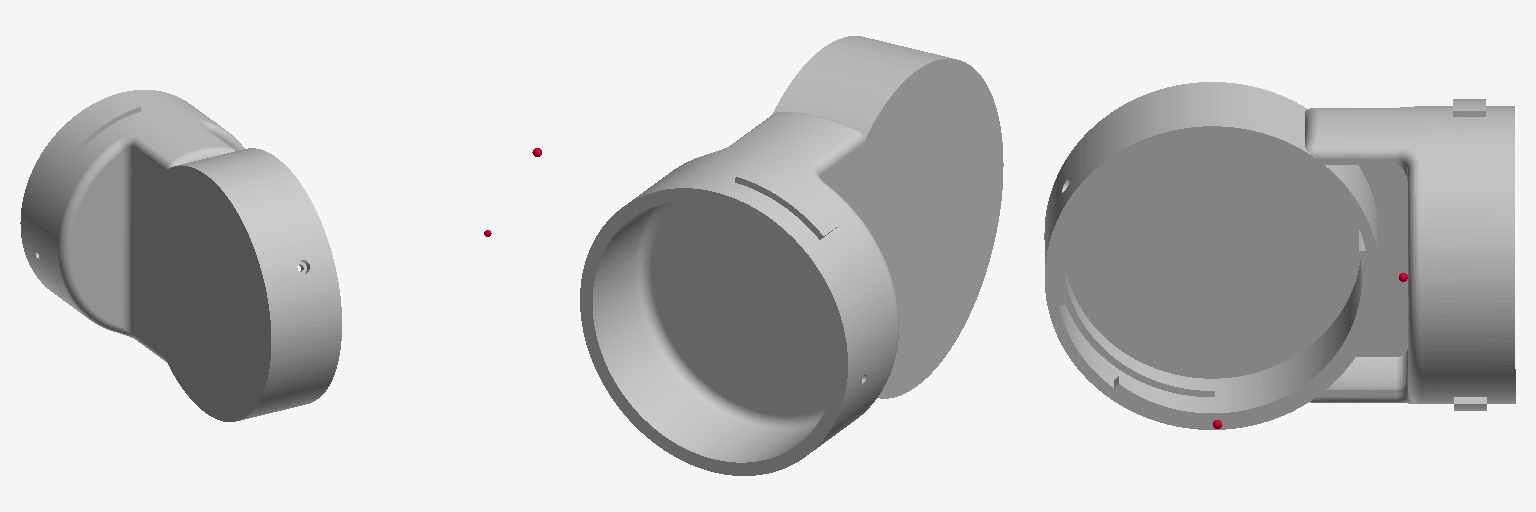
robot.urdf — universal_robot:
<?xml version="1.0"?>
<!--FOR GRIPPER, THERE IS NO LINK INERTIA DEFINED HERE-->
<robot name="universal_robot">

  <!-- Colors -->
  <material name="DarkGrey">
    <color rgba="0.2 0.2 0.2 1.0"/>
  </material>
  <material name="Grey">
    <color rgba="0.4 0.4 0.4 1.0"/>
  </material>
  <material name="Orange">
    <color rgba="1.0 0.423529411765 0.0392156862745 1.0"/>
  </material>
  <material name="Blue">
    <color rgba="0 0.1 1.0 1.0"/>
  </material>
  <material name="LightGrey">
    <color rgba="0.7 0.7 0.7 1.0"/>
  </material>
  <material name="Red">
    <color rgba="0.9 0 0.2 1.0"/>
  </material>
  <material name="TransparentRed">
    <color rgba="0.9 0 0.2 0.5"/>
  </material>
  <material name="Green">
    <color rgba="0 0.9 0.5 1.0"/>
  </material>
  <material name="Yellow">
    <color rgba="0.7 0.7 0 1.0"/>
  </material>
  <material name="LightBlue">
    <color rgba="0. 0.3 1.0 1.0"/>
  </material>
  <material name="Black">
    <color rgba="0.05 0.05 0.05 1.0"/>
  </material>
  <material name="White">
    <color rgba="1.0 1.0 1.0 1.0" />
  </material>



    <!-- connect arm to world -->
      <link name="world"/>
      <joint name="world_joint" type="fixed">
        <parent link="world"/>
        <child link="base_link"/>
        <origin rpy="0.0 0.0 -3.14" xyz="0.0 0.0 0.0"/>
      </joint>


      <link name="base_link">
        <visual>
          <geometry>
            <mesh filename="visual/base.obj"/>
          </geometry>
          <material name="LightGrey"/>
        </visual>
        <collision>
          <geometry>
            <mesh filename="collision/base.stl"/>
          </geometry>
        </collision>
        <inertial>
          <mass value="4.0"/>
          <origin rpy="0 0 0" xyz="0.0 0.0 0.0"/>
          <inertia ixx="0.00443333156" ixy="0.0" ixz="0.0" iyy="0.00443333156" iyz="0.0" izz="0.0072"/>
        </inertial>
      </link>

      <joint name="base_joint" type="revolute">
        <parent link="base_link"/>
        <child link="shoulder_link"/>
        <origin rpy="0.0 0.0 0.0" xyz="0.0 0.0 0.089159"/>
        <axis xyz="0 0 1"/>
        <limit effort="150.0" lower="-100" upper="100" velocity="3.15"/>
        <dynamics damping="0.5" friction="0.0"/>
      </joint>

      <link name="shoulder_link">
        <visual>
          <geometry>
            <mesh filename="visual/shoulder.obj"/>
          </geometry>
          <material name="DarkGrey"/>
        </visual>
        <collision>
          <geometry>
            <mesh filename="collision/shoulder.stl"/>
          </geometry>
        </collision>
        <inertial>
          <mass value="3.7"/>
          <origin rpy="0 0 0" xyz="0.0 0.0 0.0"/>
          <inertia ixx="0.010267495893" ixy="0.0" ixz="0.0" iyy="0.010267495893" iyz="0.0" izz="0.00666"/>
        </inertial>
      </link>

      <joint name="shoulder_joint" type="revolute">
        <parent link="shoulder_link"/>
        <child link="upper_arm_link"/>
        <origin rpy="0.0 1.57079632679 0.0" xyz="0.0 0.13585 0.0"/>
        <axis xyz="0 1 0"/>
        <limit effort="150.0" lower="-100" upper="100" velocity="3.15"/>
        <dynamics damping="0.5" friction="0.0"/>
      </joint>

      <link name="upper_arm_link">
        <visual>
          <geometry>
            <mesh filename="visual/upperarm.obj"/>
          </geometry>
          <material name="LightGrey"/>
        </visual>
        <collision>
          <geometry>
            <mesh filename="collision/upperarm.stl"/>
          </geometry>
        </collision>
        <inertial>
          <mass value="8.393"/>
          <origin rpy="0 0 0" xyz="0.0 0.0 0.28"/>
          <inertia ixx="0.22689067591" ixy="0.0" ixz="0.0" iyy="0.22689067591" iyz="0.0" izz="0.0151074"/>
        </inertial>
      </link>

      <joint name="elbow_joint" type="revolute">
        <parent link="upper_arm_link"/>
        <child link="forearm_link"/>
        <origin rpy="0.0 0.0 0.0" xyz="0.0 -0.1197 0.425"/>
        <axis xyz="0 1 0"/>
        <limit effort="150.0" lower="-100" upper="100" velocity="3.15"/>
        <dynamics damping="0.5" friction="0.0"/>
      </joint>

      <link name="forearm_link">
        <visual>
          <geometry>
            <mesh filename="visual/forearm.obj"/>
          </geometry>
          <material name="DarkGrey"/>
        </visual>
        <collision>
          <geometry>
            <mesh filename="collision/forearm.stl"/>
          </geometry>
        </collision>
        <inertial>
          <mass value="2.275"/>
          <origin rpy="0 0 0" xyz="0.0 0.0 0.25"/>
          <inertia ixx="0.049443313556" ixy="0.0" ixz="0.0" iyy="0.049443313556" iyz="0.0" izz="0.004095"/>
        </inertial>
      </link>

      <joint name="wrist_1_joint" type="revolute">
        <parent link="forearm_link"/>
        <child link="wrist_1_link"/>
        <origin rpy="0.0 1.57079632679 0.0" xyz="0.0 0.0 0.39225"/>
        <axis xyz="0 1 0"/>
        <limit effort="28.0" lower="-100" upper="100" velocity="3.2"/>
        <dynamics damping="0.5" friction="0.0"/>
      </joint>

      <link name="wrist_1_link">
        <visual>
          <geometry>
            <mesh filename="visual/wrist1.obj"/>
          </geometry>
          <material name="LightGrey"/>
        </visual>
        <collision>
          <geometry>
            <mesh filename="collision/wrist1.stl"/>
          </geometry>
        </collision>
        <inertial>
          <mass value="1.219"/>
          <origin rpy="0 0 0" xyz="0.0 0.0 0.0"/>
          <inertia ixx="0.111172755531" ixy="0.0" ixz="0.0" iyy="0.111172755531" iyz="0.0" izz="0.21942"/>
        </inertial>
      </link>

      <joint name="wrist_2_joint" type="revolute">
        <parent link="wrist_1_link"/>
        <child link="wrist_2_link"/>
        <origin rpy="0.0 0.0 0.0" xyz="0.0 0.093 0.0"/>
        <axis xyz="0 0 1"/>
        <limit effort="28.0" lower="-100" upper="100" velocity="3.2"/>
        <dynamics damping="0.5" friction="0.0"/>
      </joint>

      <link name="wrist_2_link">
        <visual>
          <geometry>
            <mesh filename="visual/wrist2.obj"/>
          </geometry>
          <material name="DarkGrey"/>
        </visual>
        <collision>
          <geometry>
            <mesh filename="collision/wrist2.stl"/>
          </geometry>
        </collision>
        <inertial>
          <mass value="1.219"/>
          <origin rpy="0 0 0" xyz="0.0 0.0 0.0"/>
          <inertia ixx="0.111172755531" ixy="0.0" ixz="0.0" iyy="0.111172755531" iyz="0.0" izz="0.21942"/>
        </inertial>
      </link>

      <joint name="wrist_3_joint" type="revolute">
        <parent link="wrist_2_link"/>
        <child link="wrist_3_link"/>
        <origin rpy="0.0 0.0 0.0" xyz="0.0 0.0 0.09465"/>
        <axis xyz="0 1 0"/>
        <limit effort="28.0" lower="-100" upper="100" velocity="3.2"/>
        <dynamics damping="0.5" friction="0.0"/>
      </joint>

      <link name="wrist_3_link">
        <visual>
          <geometry>
            <mesh filename="visual/wrist3.obj"/>
          </geometry>
          <material name="LightGrey"/>
        </visual>
        <collision>
          <geometry>
            <mesh filename="collision/wrist3.stl"/>
          </geometry>
        </collision>
        <inertial>
          <mass value="0.1879"/>
          <origin rpy="0 0 0" xyz="0.0 0.0 0.0"/>
          <inertia ixx="0.0171364731454" ixy="0.0" ixz="0.0" iyy="0.0171364731454" iyz="0.0" izz="0.033822"/>
        </inertial>
      </link>

      <!-- End Effector -->

      <joint name="ee_joint" type="fixed">
        <parent link="wrist_3_link"/>
        <child link="ee_link"/>
        <origin rpy="1.57 3.14 0.0" xyz="0.0 0.0823 0.0"/>
      </joint>

      <link name="ee_link">
        <visual>
          <origin rpy="0 0 0" xyz="0 0 0"/>
          <geometry>
            <sphere radius="0.001"/>
          </geometry>
           <material name="Red"/>
        </visual>
        <collision>
          <geometry>
            <sphere radius="0.001"/>
          </geometry>
          <origin rpy="0 0 0" xyz="0.0 0 0"/>
        </collision>
        <inertial>
          <mass value="0.0"/>
          <origin rpy="-3.14 0.0 1.57" xyz="0.0 0.0 0.0"/>
          <inertia ixx="0.001" ixy="0.0" ixz="0.0" iyy="0.001" iyz="0.0" izz="0.001"/>
        </inertial>
      </link>

      <!-- TacTip -->

      <link name="tactip_adapter_link">
        <inertial>
          <origin rpy="0 0 0" xyz="0 0 0"/>
           <mass value="0.1"/>
           <inertia ixx="0.001" ixy="0" ixz="0" iyy="0.001" iyz="0" izz="0.001"/>
        </inertial>
        <visual>
          <origin rpy="0 0 0" xyz="0 0 0"/>
          <geometry>
    				<mesh filename="../tactip/right_angle_tactip/adapter/right_angle_adapter.obj" scale="1.0 1.0 1.0"/>
          </geometry>
           <material name="whitish">
            <color rgba="0.8 0.8 0.8 1.0"/>
          </material>
        </visual>
        <collision>
          <origin rpy="0 0 0" xyz="0 0 0"/>
          <geometry>
    				<mesh filename="../tactip/right_angle_tactip/adapter/right_angle_adapter.obj" scale="1.0 1.0 1.0"/>
          </geometry>
        </collision>
      </link>

      <joint name="tactip_ee_joint" type="fixed">
        <parent link="ee_link"/>
        <child link="tactip_adapter_link"/>
        <origin rpy="-1.57 -1.57 1.57" xyz="0.0 0.005 -0.04"/>
      </joint>

      <link name="tactip_body_link">
        <inertial>
          <origin rpy="0 0 0" xyz="0 0 0"/>
           <mass value="0.25"/>
           <inertia ixx="0.001" ixy="0" ixz="0" iyy="0.001" iyz="0" izz="0.001"/>
        </inertial>
        <visual>
          <origin rpy="0 0 0" xyz="0 0 0"/>
          <geometry>
    				<mesh filename="../tactip/standard_tactip/body/tactip_body.obj" scale="1.0 1.0 1.0"/>
          </geometry>
           <material name="whitish">
            <color rgba="0.8 0.8 0.8 1.0"/>
          </material>
        </visual>
        <collision>
          <origin rpy="0 0 0" xyz="0 0 0"/>
          <geometry>
    				<mesh filename="../tactip/standard_tactip/body/tactip_body.obj" scale="1.0 1.0 1.0"/>
          </geometry>
        </collision>
      </link>

      <joint name="tactip_body_to_adapter" type="fixed">
         <origin rpy="0 0 0" xyz="0 0 0"/>
         <parent link="tactip_adapter_link"/>
         <child link="tactip_body_link"/>
      </joint>

      <link name="tactip_tip_link">
        <contact>
          <friction_anchor/>
          <lateral_friction value="1.0"/>
        </contact>
        <inertial>
          <origin rpy="0 0 0" xyz="0 0 0"/>
           <mass value=".1"/>
           <inertia ixx="1" ixy="0" ixz="0" iyy="1" iyz="0" izz="1"/>
        </inertial>
        <visual>
          <origin rpy="0 0 0" xyz="0 0 0"/>
          <geometry>
            <mesh filename="../tactip/standard_tactip/tip/skin.obj" scale="1.0 1.0 1.0"/>
          </geometry>
           <material name="black">
            <color rgba="0.0 0.0 0.0 1.0"/>
          </material>
        </visual>
        <collision>
          <origin rpy="0 0 0" xyz="0 0 0"/>
          <geometry>
            <mesh filename="../tactip/standard_tactip/tip/core.obj" scale="1 1 1"/>
          </geometry>
        </collision>
      </link>

      <joint name="tactip_tip_to_body" type="fixed">
         <origin rpy="1.57 0 0" xyz="0 0 0.065"/>
         <axis xyz="0 1 0"/>
         <parent link="tactip_body_link"/>
         <child link="tactip_tip_link"/>
      </joint>

      <!-- TCP -->
      <link name="tcp_link">
        <visual>
          <origin rpy="0 0 0" xyz="0 0 0"/>
          <geometry>
            <sphere radius="0.001"/>
          </geometry>
           <material name="TransparentRed"/>
        </visual>
        <inertial>
          <mass value="0.0"/>
          <origin rpy="0.0 -1.57 0.0" xyz="0.0 0.0 0.0"/>
          <inertia ixx="1.0" ixy="0.0" ixz="0.0" iyy="1.0" iyz="0.0" izz="1.0"/>
        </inertial>
      </link>

      <joint name="tcp_joint" type="fixed">
        <parent link="tactip_body_link"/>
        <child link="tcp_link"/>
        <origin rpy="0 0 0" xyz="0.0 0.0 0.085"/>
      </joint>

</robot>

--- Facts derived from the render (not from the file) ---
The picture shows the robot from 3 angles, left to right: view 1: azimuth 30°, elevation 25°; view 2: azimuth 150°, elevation 25°; view 3: azimuth 270°, elevation 25°; orthographic projection.
Model universal_robot with 13 links and 12 joints (6 revolute, 6 fixed), rooted at world, posed all joints at 0.
Visible links, largest first — view 1: tactip_adapter_link; view 2: tactip_adapter_link; view 3: tactip_adapter_link.
Boxes of the visible links, x1,y1,x2,y2 form: tactip_adapter_link: [20, 90, 341, 421]; tactip_adapter_link: [580, 36, 1003, 475]; tactip_adapter_link: [1044, 82, 1515, 429].
Bounding box of the posed robot: 0.1121 × 0.1011 × 0.072 m (x, y, z).
Meshes: 10 distinct files referenced, 1 mesh visuals loaded (1 OBJ); not drawn: 9 (reference not matched to a file when rendering).